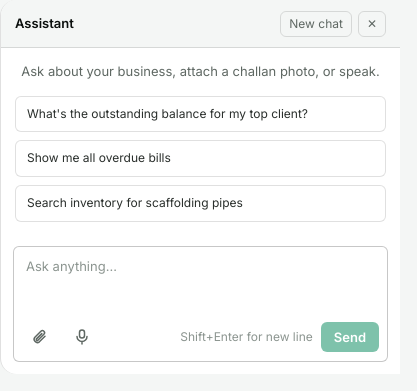
Scenario: AssistantPanel › asks for confirmation and applies the approved result
Type "make a challan" into the text box named "Message the assistant".
click(200, 284); type("make a challan")  # box [22,255,379,313]
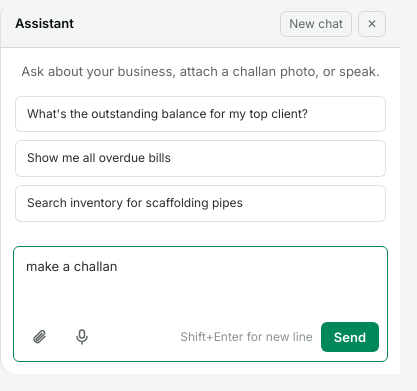
Click the button "Send".
click(350, 337)  # box [321,322,379,352]
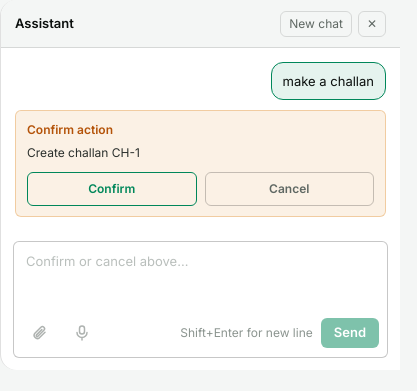
Check: the text "Confirm action" is shown, box [27,122,113,137]
Check: the text "Create challan CH-1" is shown, box [27,145,140,160]
Click the button "Confirm".
click(112, 189)  # box [27,172,196,206]
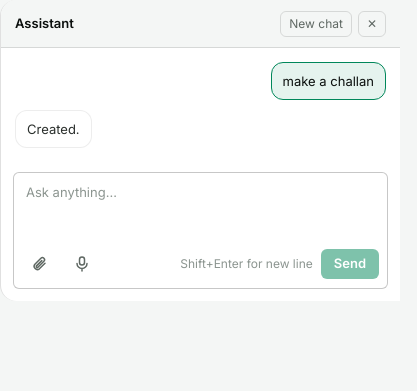
Check: the text "Created." is shown, box [15,110,92,148]
